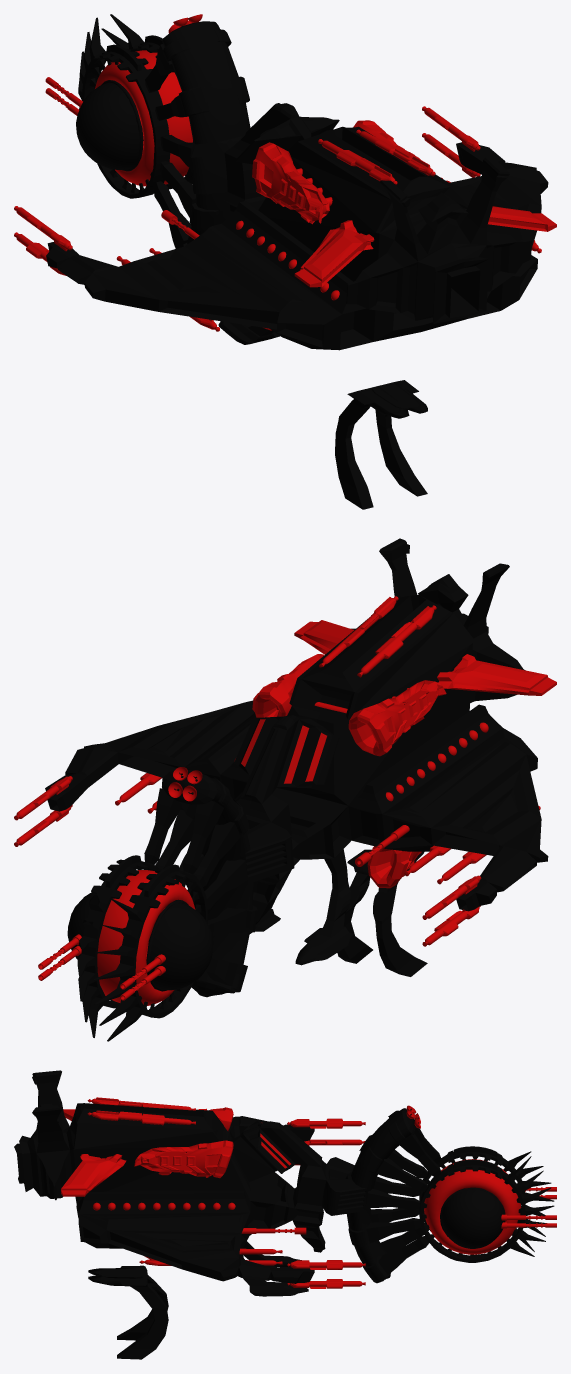
File: ship_lp4.glb
3 renders of one model, top to bottom at view 1: azimuth 30°, elevation 25°; view 2: azimuth 150°, elevation 25°; view 3: azimuth 270°, elevation 25°, orthographic. The views are drawn at different scales.
Visible parts, largest first — view 1: Sph345634ere004_black mat for body_0, Chamf3456erCyl019_07 - Default_0, Box335689_fghfghjgh_0; view 2: Sph345634ere004_black mat for body_0, Chamf3456erCyl019_07 - Default_0, Box335689_fghfghjgh_0, Torus005_body color 2_0; view 3: Sph345634ere004_black mat for body_0, Chamf3456erCyl019_07 - Default_0, Box335689_fghfghjgh_0.
Part boxes in pixels (x1,y1,x2,y2): Sph345634ere004_black mat for body_0: [46, 14, 548, 350]; Chamf3456erCyl019_07 - Default_0: [14, 14, 556, 331]; Box335689_fghfghjgh_0: [218, 321, 427, 509]; Sph345634ere004_black mat for body_0: [45, 538, 548, 1041]; Chamf3456erCyl019_07 - Default_0: [14, 596, 556, 1005]; Box335689_fghfghjgh_0: [249, 849, 427, 976]; Torus005_body color 2_0: [241, 719, 326, 783]; Sph345634ere004_black mat for body_0: [14, 1070, 554, 1283]; Chamf3456erCyl019_07 - Default_0: [61, 1097, 556, 1288]; Box335689_fghfghjgh_0: [88, 1227, 308, 1359].
Size of the model in its own units: 3.76 by 2.86 by 5.43.
